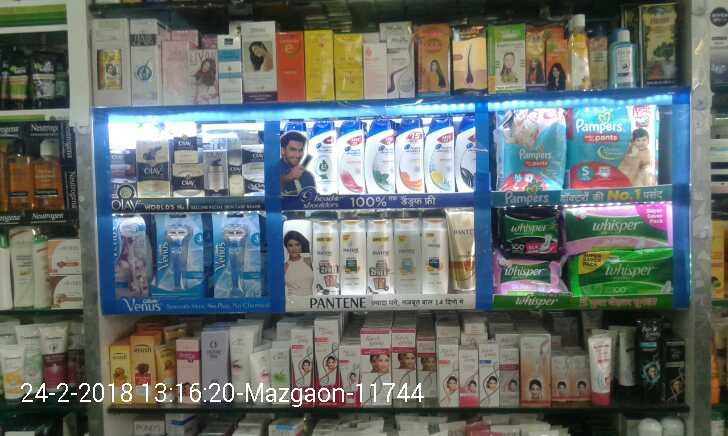venus: (157, 213, 215, 299), (215, 208, 264, 299), (116, 213, 157, 298)
